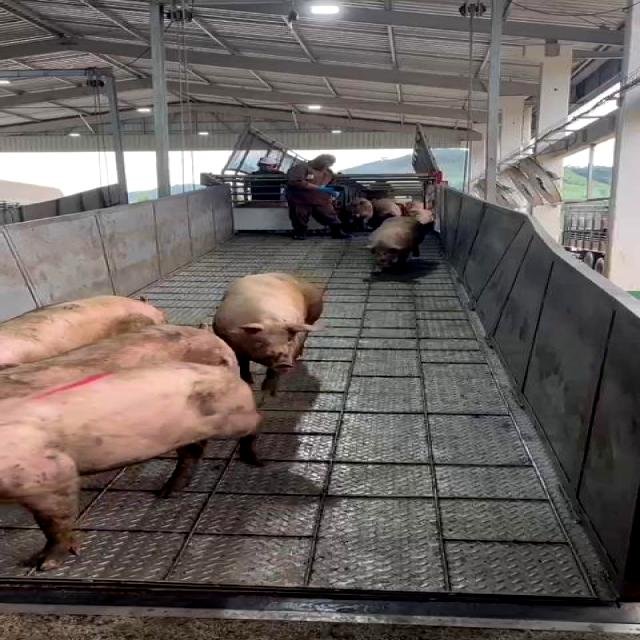pig: (1, 363, 260, 568), (1, 327, 233, 396), (213, 274, 323, 393), (1, 296, 163, 367), (369, 217, 424, 269)
